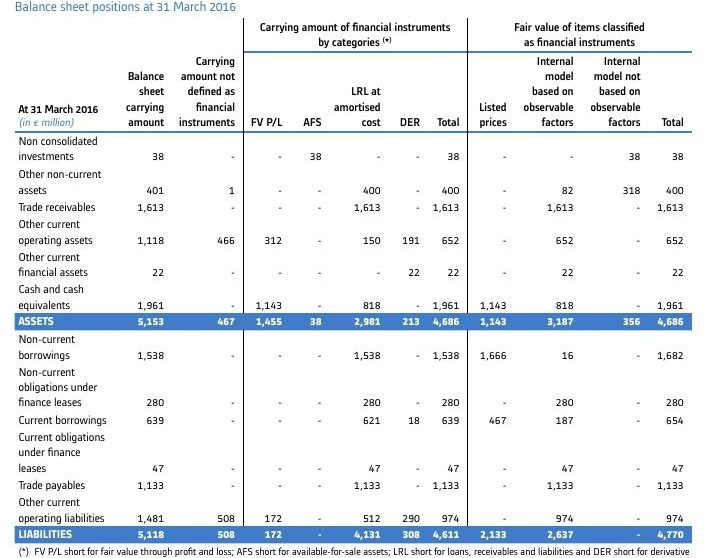table: (0, 0, 716, 558)
